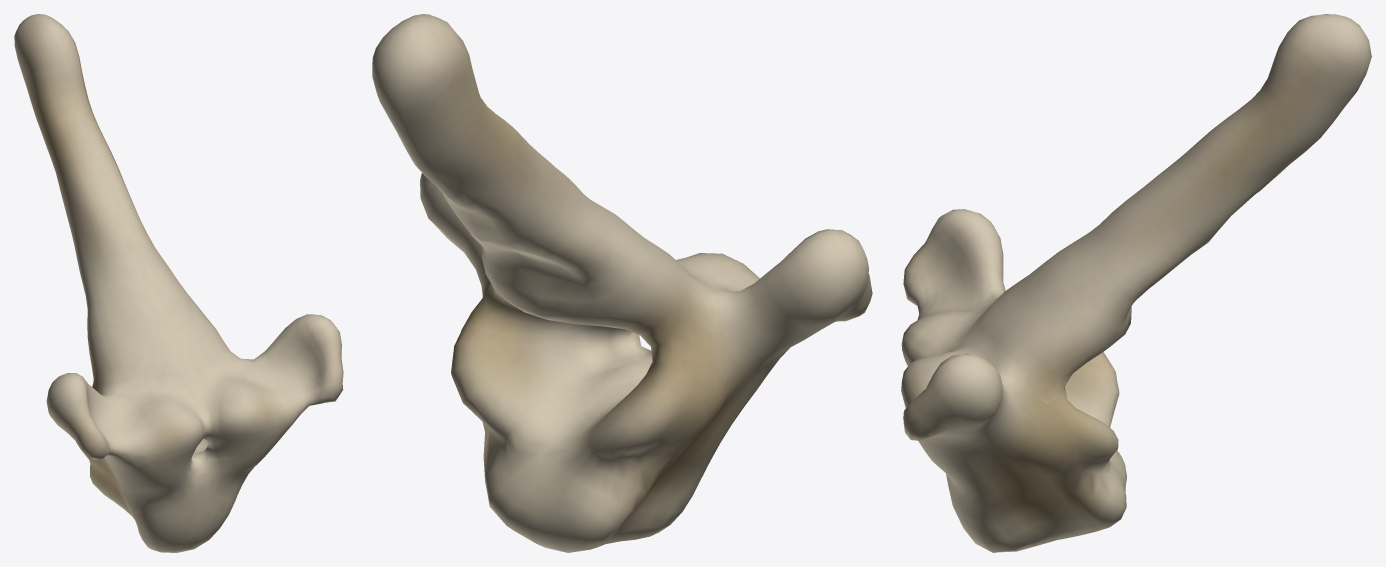
Rendered from vertebrae thoracicae 07.fbx.
3 views of the same model, side by side, from view 1: azimuth 30°, elevation 25°; view 2: azimuth 150°, elevation 25°; view 3: azimuth 270°, elevation 25° (orthographic). The views are drawn at different scales.
Parts seen in each view (by area): view 1: vertebrae thoracicae 07; view 2: vertebrae thoracicae 07; view 3: vertebrae thoracicae 07.
Part boxes in pixels (x1=…): vertebrae thoracicae 07: x1=14, y1=14, x2=343, y2=552; vertebrae thoracicae 07: x1=372, y1=14, x2=872, y2=552; vertebrae thoracicae 07: x1=901, y1=14, x2=1371, y2=552.
Bounding box in the file's own units: 8.96 × 12.94 × 10.46.
